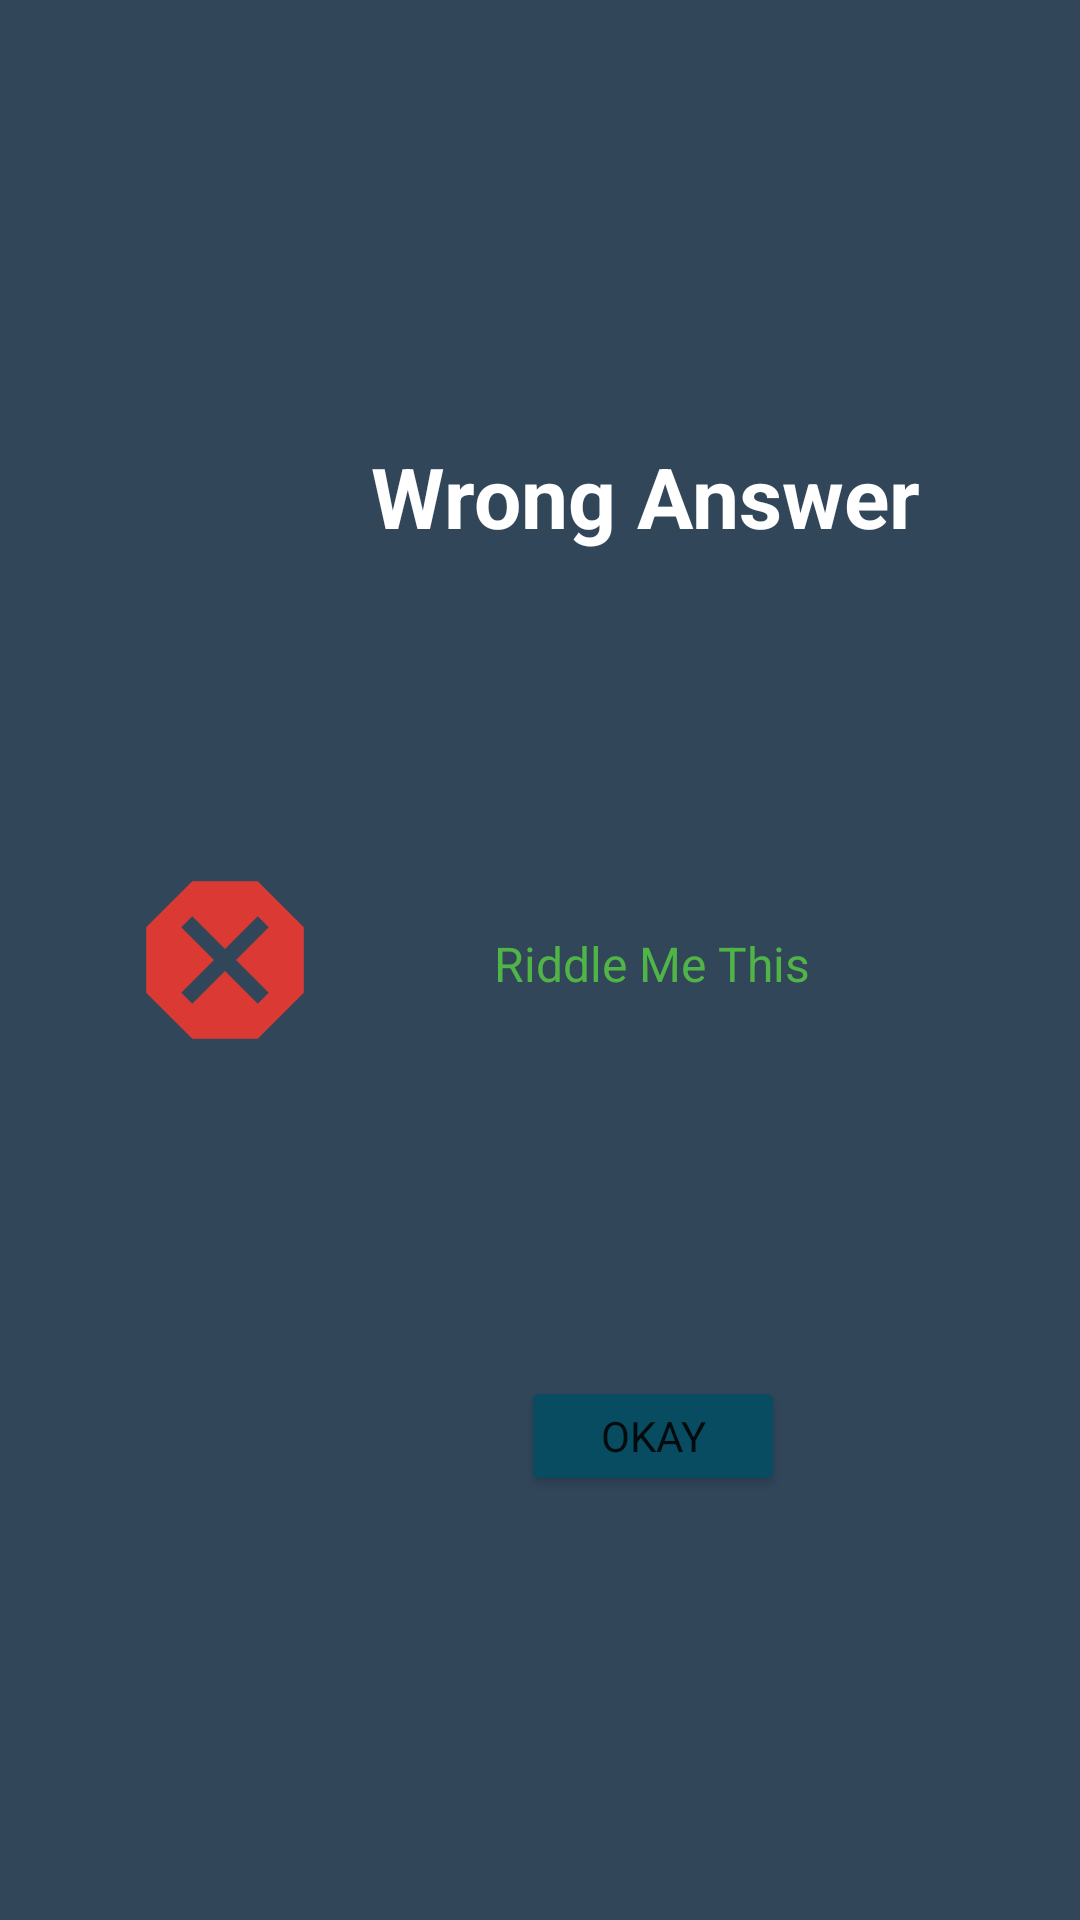

Where to tap for icons on this 1080*1920 app screen, as (x,y):
riddle solved wrong: (225,960)
